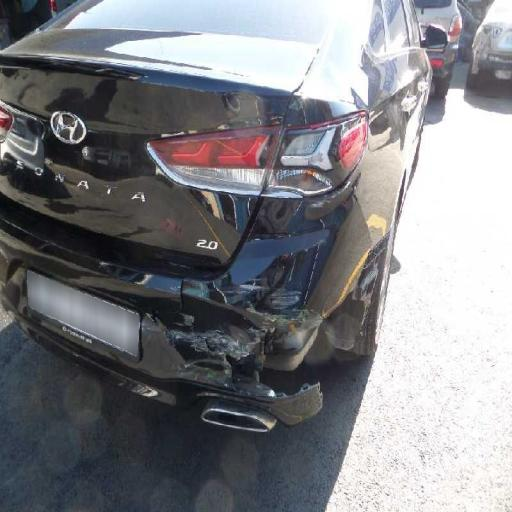broken: (138, 144, 400, 442)
